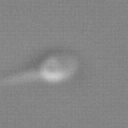normal: (1, 66, 38, 95)
